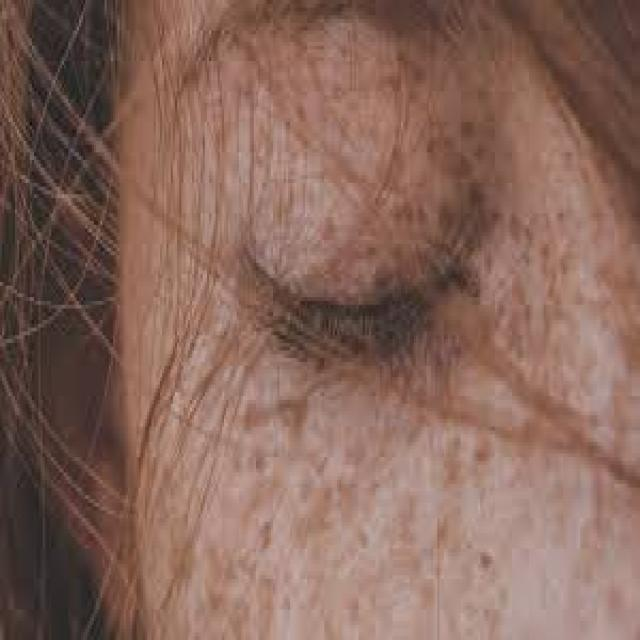pigmentation: (202, 366, 405, 590)
